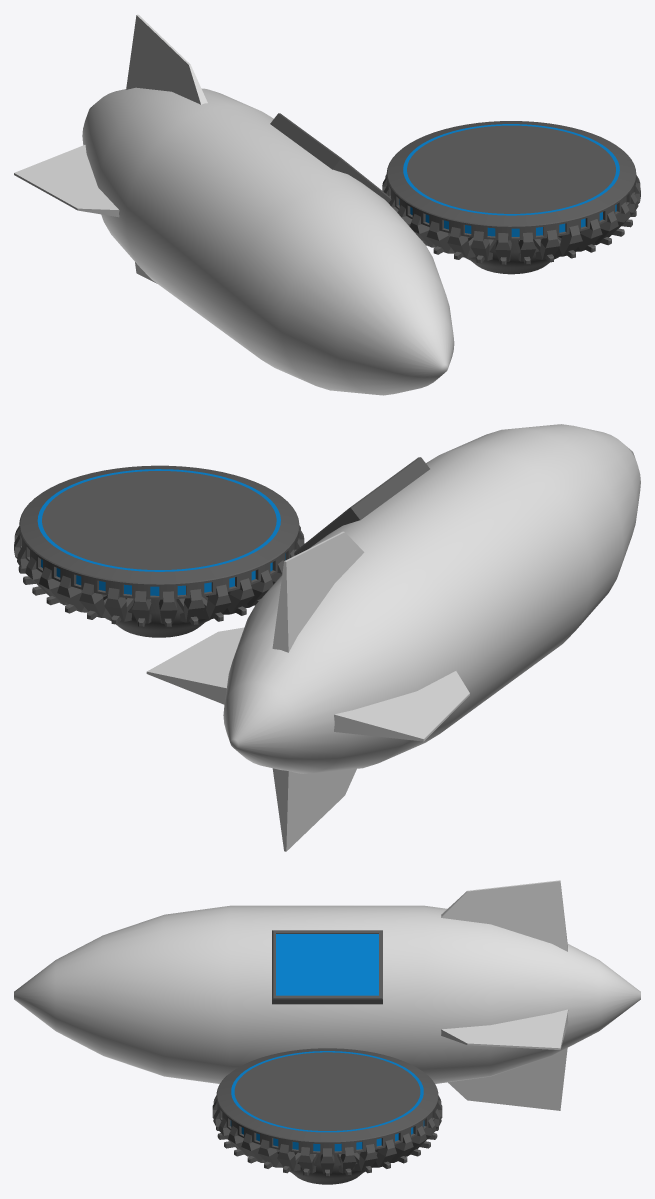
Rendered from Arena03.fbx.
3 renders of one model, top to bottom at view 1: azimuth 30°, elevation 25°; view 2: azimuth 150°, elevation 25°; view 3: azimuth 270°, elevation 25°, orthographic. The views are drawn at different scales.
Parts seen in each view (by area): view 1: Blimp, Arena Top Platform, Arena Edge Details, Blimp Monitor, Under the Arena; view 2: Blimp, Arena Top Platform, Arena Edge Details, Blimp Monitor, Under the Arena; view 3: Blimp, Arena Top Platform, Blimp Monitor, Arena Edge Details, Under the Arena.
Boxes of the visible parts, x1,y1,x2,y2 form: Blimp: (14,14,454,395); Arena Top Platform: (386,121,636,240); Arena Edge Details: (382,174,640,264); Blimp Monitor: (270,113,391,203); Under the Arena: (465,236,561,274); Blimp: (146,424,640,851); Arena Top Platform: (19,465,299,599); Arena Edge Details: (14,525,304,627); Blimp Monitor: (294,457,429,555); Under the Arena: (103,595,229,637); Blimp: (14,880,640,1110); Arena Top Platform: (216,1048,438,1154); Blimp Monitor: (272,930,382,1004); Arena Edge Details: (212,1095,442,1176); Under the Arena: (277,1151,377,1184).
Size of the model in its own units: 7080 by 3653 by 9031.
